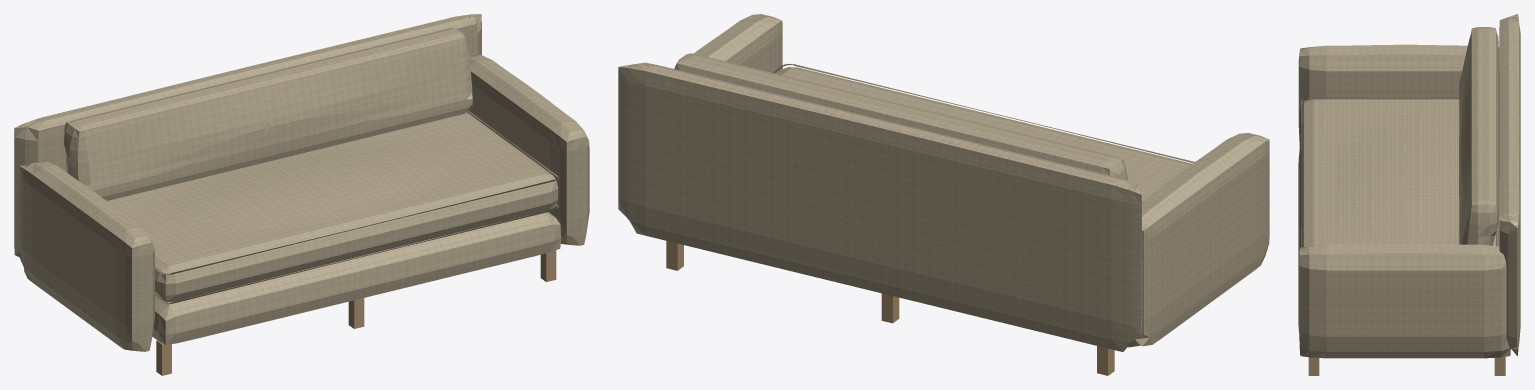
File: HIN-SOF-3-seat.glb
3 renders of one model, left to right at view 1: azimuth 30°, elevation 25°; view 2: azimuth 150°, elevation 25°; view 3: azimuth 270°, elevation 25°, orthographic. The views are drawn at different scales.
Parts seen in each view (by area): view 1: seat:fabric:eyJwcmVzZXQiOiJsaW5lbiIsIndhcnAiOiJvYXQiLCJ3ZWZ0, inside-back:fabric:eyJwcmVzZXQiOiJsaW5lbiIsIndhcnAiOiJvYXQiL, arm-pad-l:fabric:eyJwcmVzZXQiOiJsaW5lbiIsIndhcnAiOiJvYXQiLCJ, deck:fabric:eyJwcmVzZXQiOiJsaW5lbiIsIndhcnAiOiJvYXQiLCJ3ZWZ0, arm-pad-r:fabric:eyJwcmVzZXQiOiJsaW5lbiIsIndhcnAiOiJvYXQiLCJ, back-pad:fabric:eyJwcmVzZXQiOiJsaW5lbiIsIndhcnAiOiJvYXQiLCJ3, seat:piping:pbr, leg-fl:pbr, leg-fr:pbr, leg-cf:pbr; view 2: back-pad:fabric:eyJwcmVzZXQiOiJsaW5lbiIsIndhcnAiOiJvYXQiLCJ3, arm-pad-l:fabric:eyJwcmVzZXQiOiJsaW5lbiIsIndhcnAiOiJvYXQiLCJ, inside-back:fabric:eyJwcmVzZXQiOiJsaW5lbiIsIndhcnAiOiJvYXQiL, seat:fabric:eyJwcmVzZXQiOiJsaW5lbiIsIndhcnAiOiJvYXQiLCJ3ZWZ0, arm-pad-r:fabric:eyJwcmVzZXQiOiJsaW5lbiIsIndhcnAiOiJvYXQiLCJ, seat:piping:pbr; view 3: arm-pad-r:fabric:eyJwcmVzZXQiOiJsaW5lbiIsIndhcnAiOiJvYXQiLCJ, seat:fabric:eyJwcmVzZXQiOiJsaW5lbiIsIndhcnAiOiJvYXQiLCJ3ZWZ0, arm-pad-l:fabric:eyJwcmVzZXQiOiJsaW5lbiIsIndhcnAiOiJvYXQiLCJ, inside-back:fabric:eyJwcmVzZXQiOiJsaW5lbiIsIndhcnAiOiJvYXQiL, back-pad:fabric:eyJwcmVzZXQiOiJsaW5lbiIsIndhcnAiOiJvYXQiLCJ3, seat:piping:pbr, deck:fabric:eyJwcmVzZXQiOiJsaW5lbiIsIndhcnAiOiJvYXQiLCJ3ZWZ0, leg-br:pbr, leg-fr:pbr.
Part boxes in pixels (bbox=[...]): seat:fabric:eyJwcmVzZXQiOiJsaW5lbiIsIndhcnAiOiJvYXQiLCJ3ZWZ0: bbox=[107, 112, 558, 302]; inside-back:fabric:eyJwcmVzZXQiOiJsaW5lbiIsIndhcnAiOiJvYXQiL: bbox=[64, 28, 472, 200]; arm-pad-l:fabric:eyJwcmVzZXQiOiJsaW5lbiIsIndhcnAiOiJvYXQiLCJ: bbox=[19, 161, 154, 351]; deck:fabric:eyJwcmVzZXQiOiJsaW5lbiIsIndhcnAiOiJvYXQiLCJ3ZWZ0: bbox=[152, 210, 561, 344]; arm-pad-r:fabric:eyJwcmVzZXQiOiJsaW5lbiIsIndhcnAiOiJvYXQiLCJ: bbox=[467, 55, 589, 245]; back-pad:fabric:eyJwcmVzZXQiOiJsaW5lbiIsIndhcnAiOiJvYXQiLCJ3: bbox=[14, 14, 481, 257]; seat:piping:pbr: bbox=[155, 111, 558, 304]; leg-fl:pbr: bbox=[156, 340, 171, 375]; leg-fr:pbr: bbox=[540, 250, 556, 281]; leg-cf:pbr: bbox=[348, 298, 364, 328]; back-pad:fabric:eyJwcmVzZXQiOiJsaW5lbiIsIndhcnAiOiJvYXQiLCJ3: bbox=[618, 62, 1141, 351]; arm-pad-l:fabric:eyJwcmVzZXQiOiJsaW5lbiIsIndhcnAiOiJvYXQiLCJ: bbox=[1128, 133, 1269, 347]; inside-back:fabric:eyJwcmVzZXQiOiJsaW5lbiIsIndhcnAiOiJvYXQiL: bbox=[675, 53, 1127, 179]; seat:fabric:eyJwcmVzZXQiOiJsaW5lbiIsIndhcnAiOiJvYXQiLCJ3ZWZ0: bbox=[776, 67, 1191, 201]; arm-pad-r:fabric:eyJwcmVzZXQiOiJsaW5lbiIsIndhcnAiOiJvYXQiLCJ: bbox=[673, 14, 782, 73]; seat:piping:pbr: bbox=[772, 64, 1194, 162]; arm-pad-r:fabric:eyJwcmVzZXQiOiJsaW5lbiIsIndhcnAiOiJvYXQiLCJ: bbox=[1298, 244, 1510, 358]; seat:fabric:eyJwcmVzZXQiOiJsaW5lbiIsIndhcnAiOiJvYXQiLCJ3ZWZ0: bbox=[1299, 99, 1498, 249]; arm-pad-l:fabric:eyJwcmVzZXQiOiJsaW5lbiIsIndhcnAiOiJvYXQiLCJ: bbox=[1298, 44, 1499, 140]; inside-back:fabric:eyJwcmVzZXQiOiJsaW5lbiIsIndhcnAiOiJvYXQiL: bbox=[1459, 27, 1499, 245]; back-pad:fabric:eyJwcmVzZXQiOiJsaW5lbiIsIndhcnAiOiJvYXQiLCJ3: bbox=[1499, 14, 1520, 355]; seat:piping:pbr: bbox=[1301, 97, 1496, 247]; deck:fabric:eyJwcmVzZXQiOiJsaW5lbiIsIndhcnAiOiJvYXQiLCJ3ZWZ0: bbox=[1298, 151, 1499, 330]; leg-br:pbr: bbox=[1494, 357, 1505, 375]; leg-fr:pbr: bbox=[1308, 357, 1319, 375].
Size of the model in its own units: 2.1 by 0.78 by 0.92.
13 materials, 6 textured.
